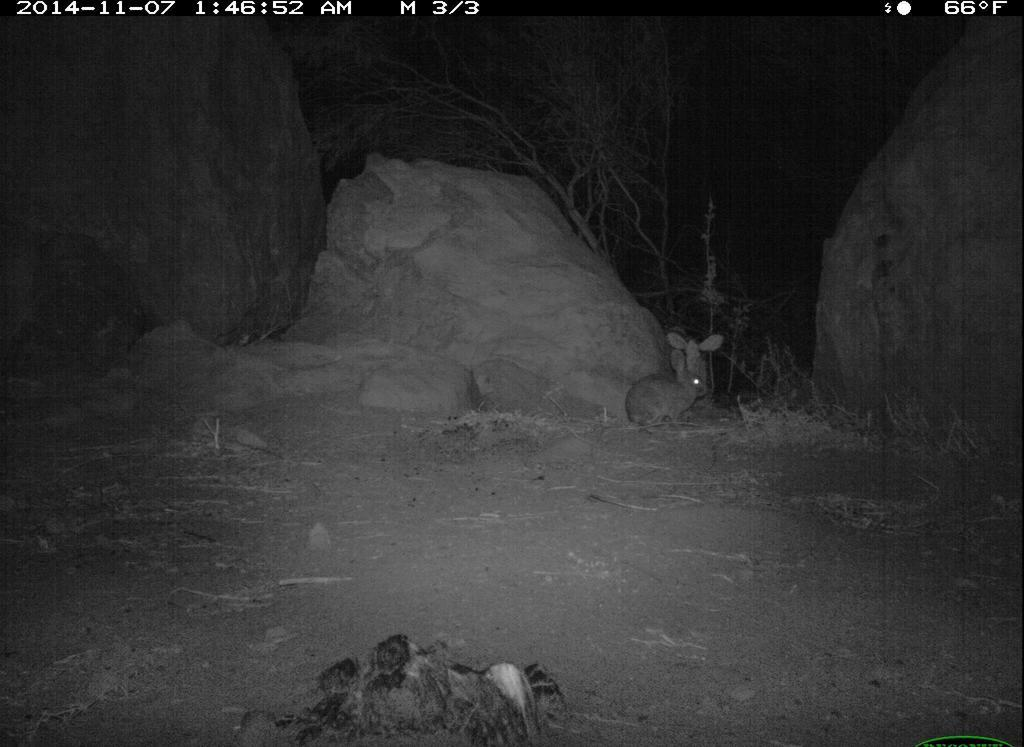rabbit: (626, 349, 713, 433)
